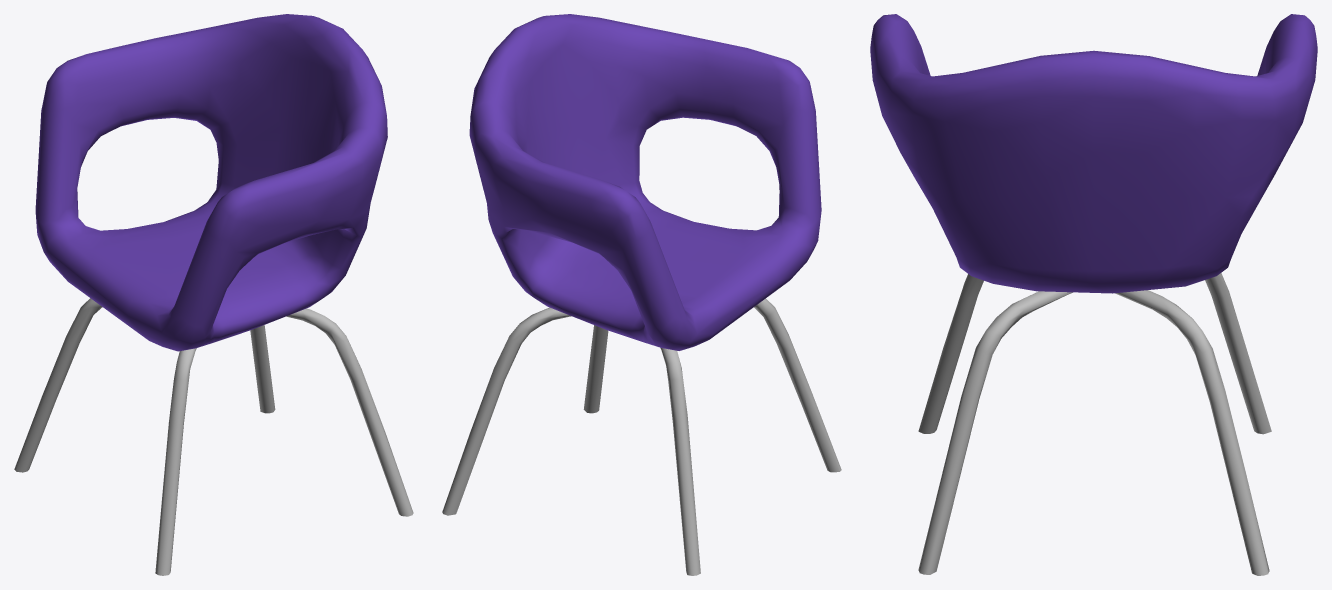
The model's file is chair_07_purple.fbx.
3 renders of one model, left to right at view 1: azimuth 30°, elevation 25°; view 2: azimuth 150°, elevation 25°; view 3: azimuth 270°, elevation 25°, orthographic. The views are drawn at different scales.
Parts seen in each view (by area): view 1: chair_07_purple; view 2: chair_07_purple; view 3: chair_07_purple.
Boxes of the visible parts, x1=… form: chair_07_purple: x1=14, y1=14, x2=413, y2=575; chair_07_purple: x1=442, y1=14, x2=841, y2=575; chair_07_purple: x1=870, y1=14, x2=1317, y2=575.
Size of the model in its own units: 51.53 by 81.16 by 63.67.
Materials: 2 (2 with a texture image).
